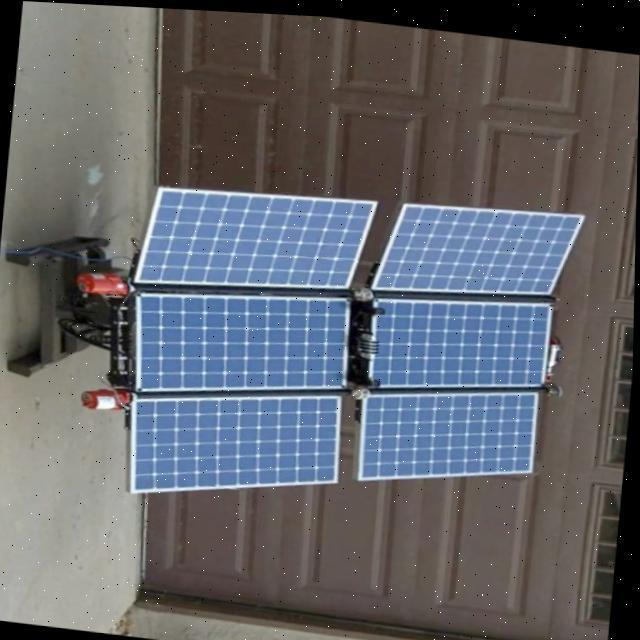Normal Solar Panel: (133, 172, 375, 306), (128, 274, 350, 412), (124, 373, 342, 512), (372, 187, 584, 307), (358, 369, 538, 494), (370, 280, 552, 400)
